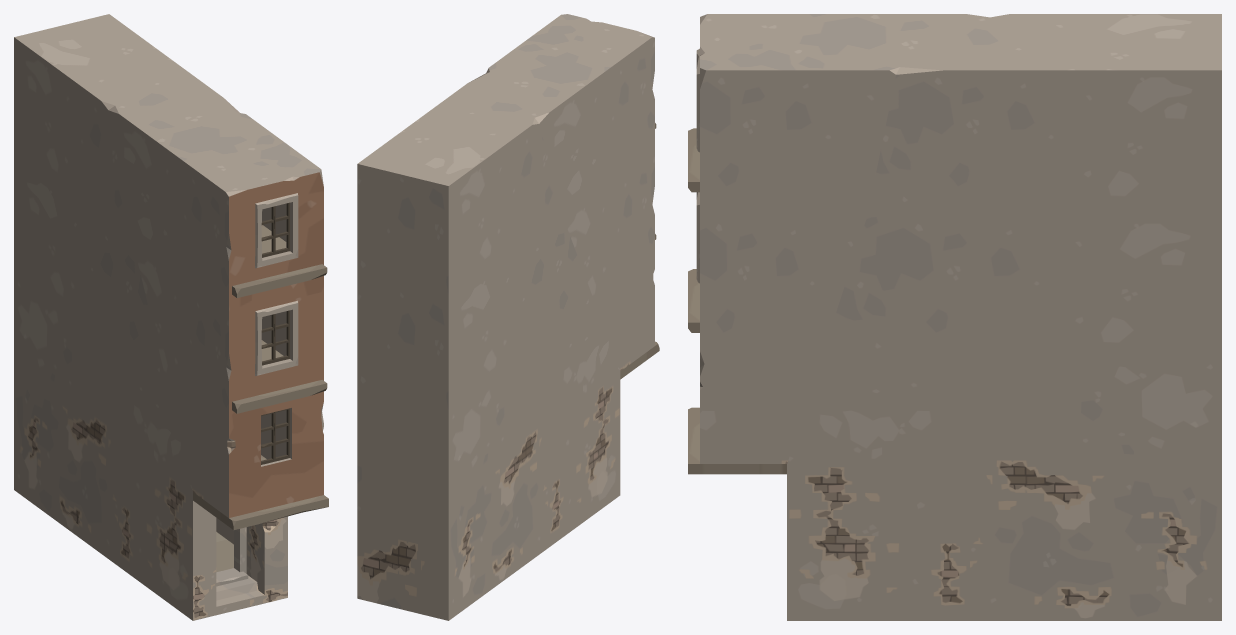
Rendered from SM_Bld_Shop_02.fbx.
3 renders of one model, left to right at view 1: azimuth 30°, elevation 25°; view 2: azimuth 150°, elevation 25°; view 3: azimuth 270°, elevation 25°, orthographic. The views are drawn at different scales.
Parts seen in each view (by area): view 1: SM_Bld_Shop_02; view 2: SM_Bld_Shop_02; view 3: SM_Bld_Shop_02.
Part boxes in pixels (x1,y1,x2,y2): SM_Bld_Shop_02: (14,14,328,620); SM_Bld_Shop_02: (357,14,659,620); SM_Bld_Shop_02: (688,14,1221,620).
Bounding box in the file's own units: 307 × 1399 × 1230.
